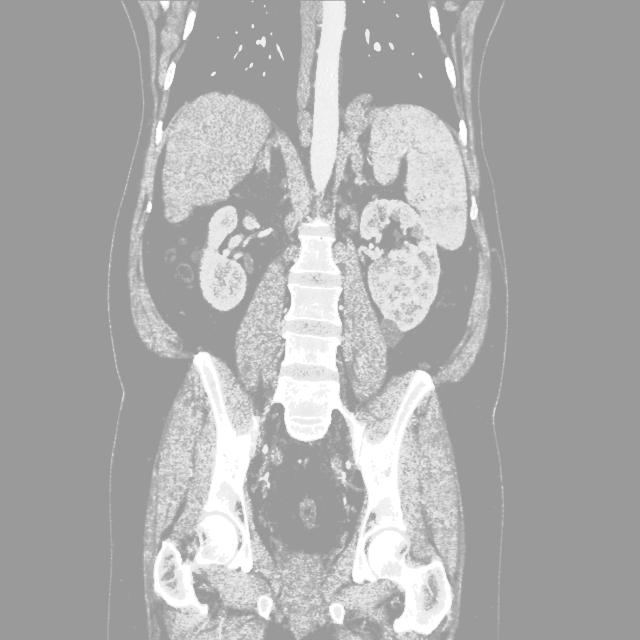TUMOR: (115, 117, 592, 515)
